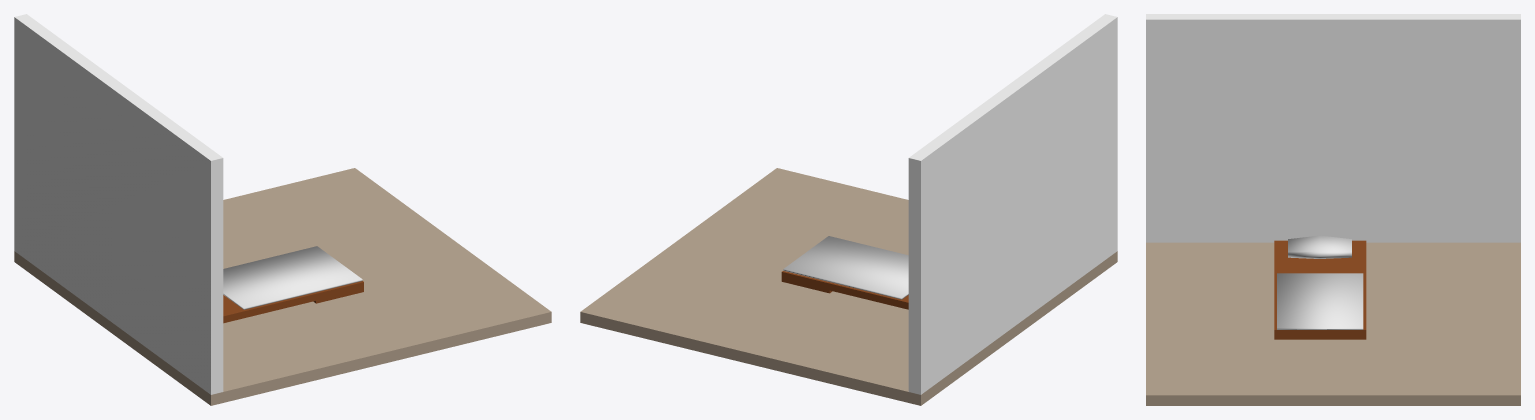
Rendered from bedroom.glb.
3 views of the same model, side by side, from view 1: azimuth 30°, elevation 25°; view 2: azimuth 150°, elevation 25°; view 3: azimuth 270°, elevation 25° (orthographic). The views are drawn at different scales.
Parts seen in each view (by area): view 1: Cube.001, Cube, Plane.002, Plane; view 2: Cube.001, Cube, Plane.002, Plane; view 3: Cube.001, Cube, Plane.002, Plane, Plane.001.
Part boxes in pixels (x1,y1,x2,y2): Cube.001: [14, 14, 223, 394]; Cube: [14, 168, 551, 405]; Plane.002: [223, 246, 362, 309]; Plane: [223, 281, 363, 323]; Cube.001: [908, 14, 1117, 394]; Cube: [580, 168, 1117, 405]; Plane.002: [783, 236, 908, 299]; Plane: [781, 271, 908, 309]; Cube.001: [1146, 14, 1520, 242]; Cube: [1146, 242, 1520, 405]; Plane.002: [1277, 273, 1363, 329]; Plane: [1274, 240, 1366, 339]; Plane.001: [1288, 235, 1351, 258].
Size of the model in its own units: 9.32 by 6.41 by 9.32.
